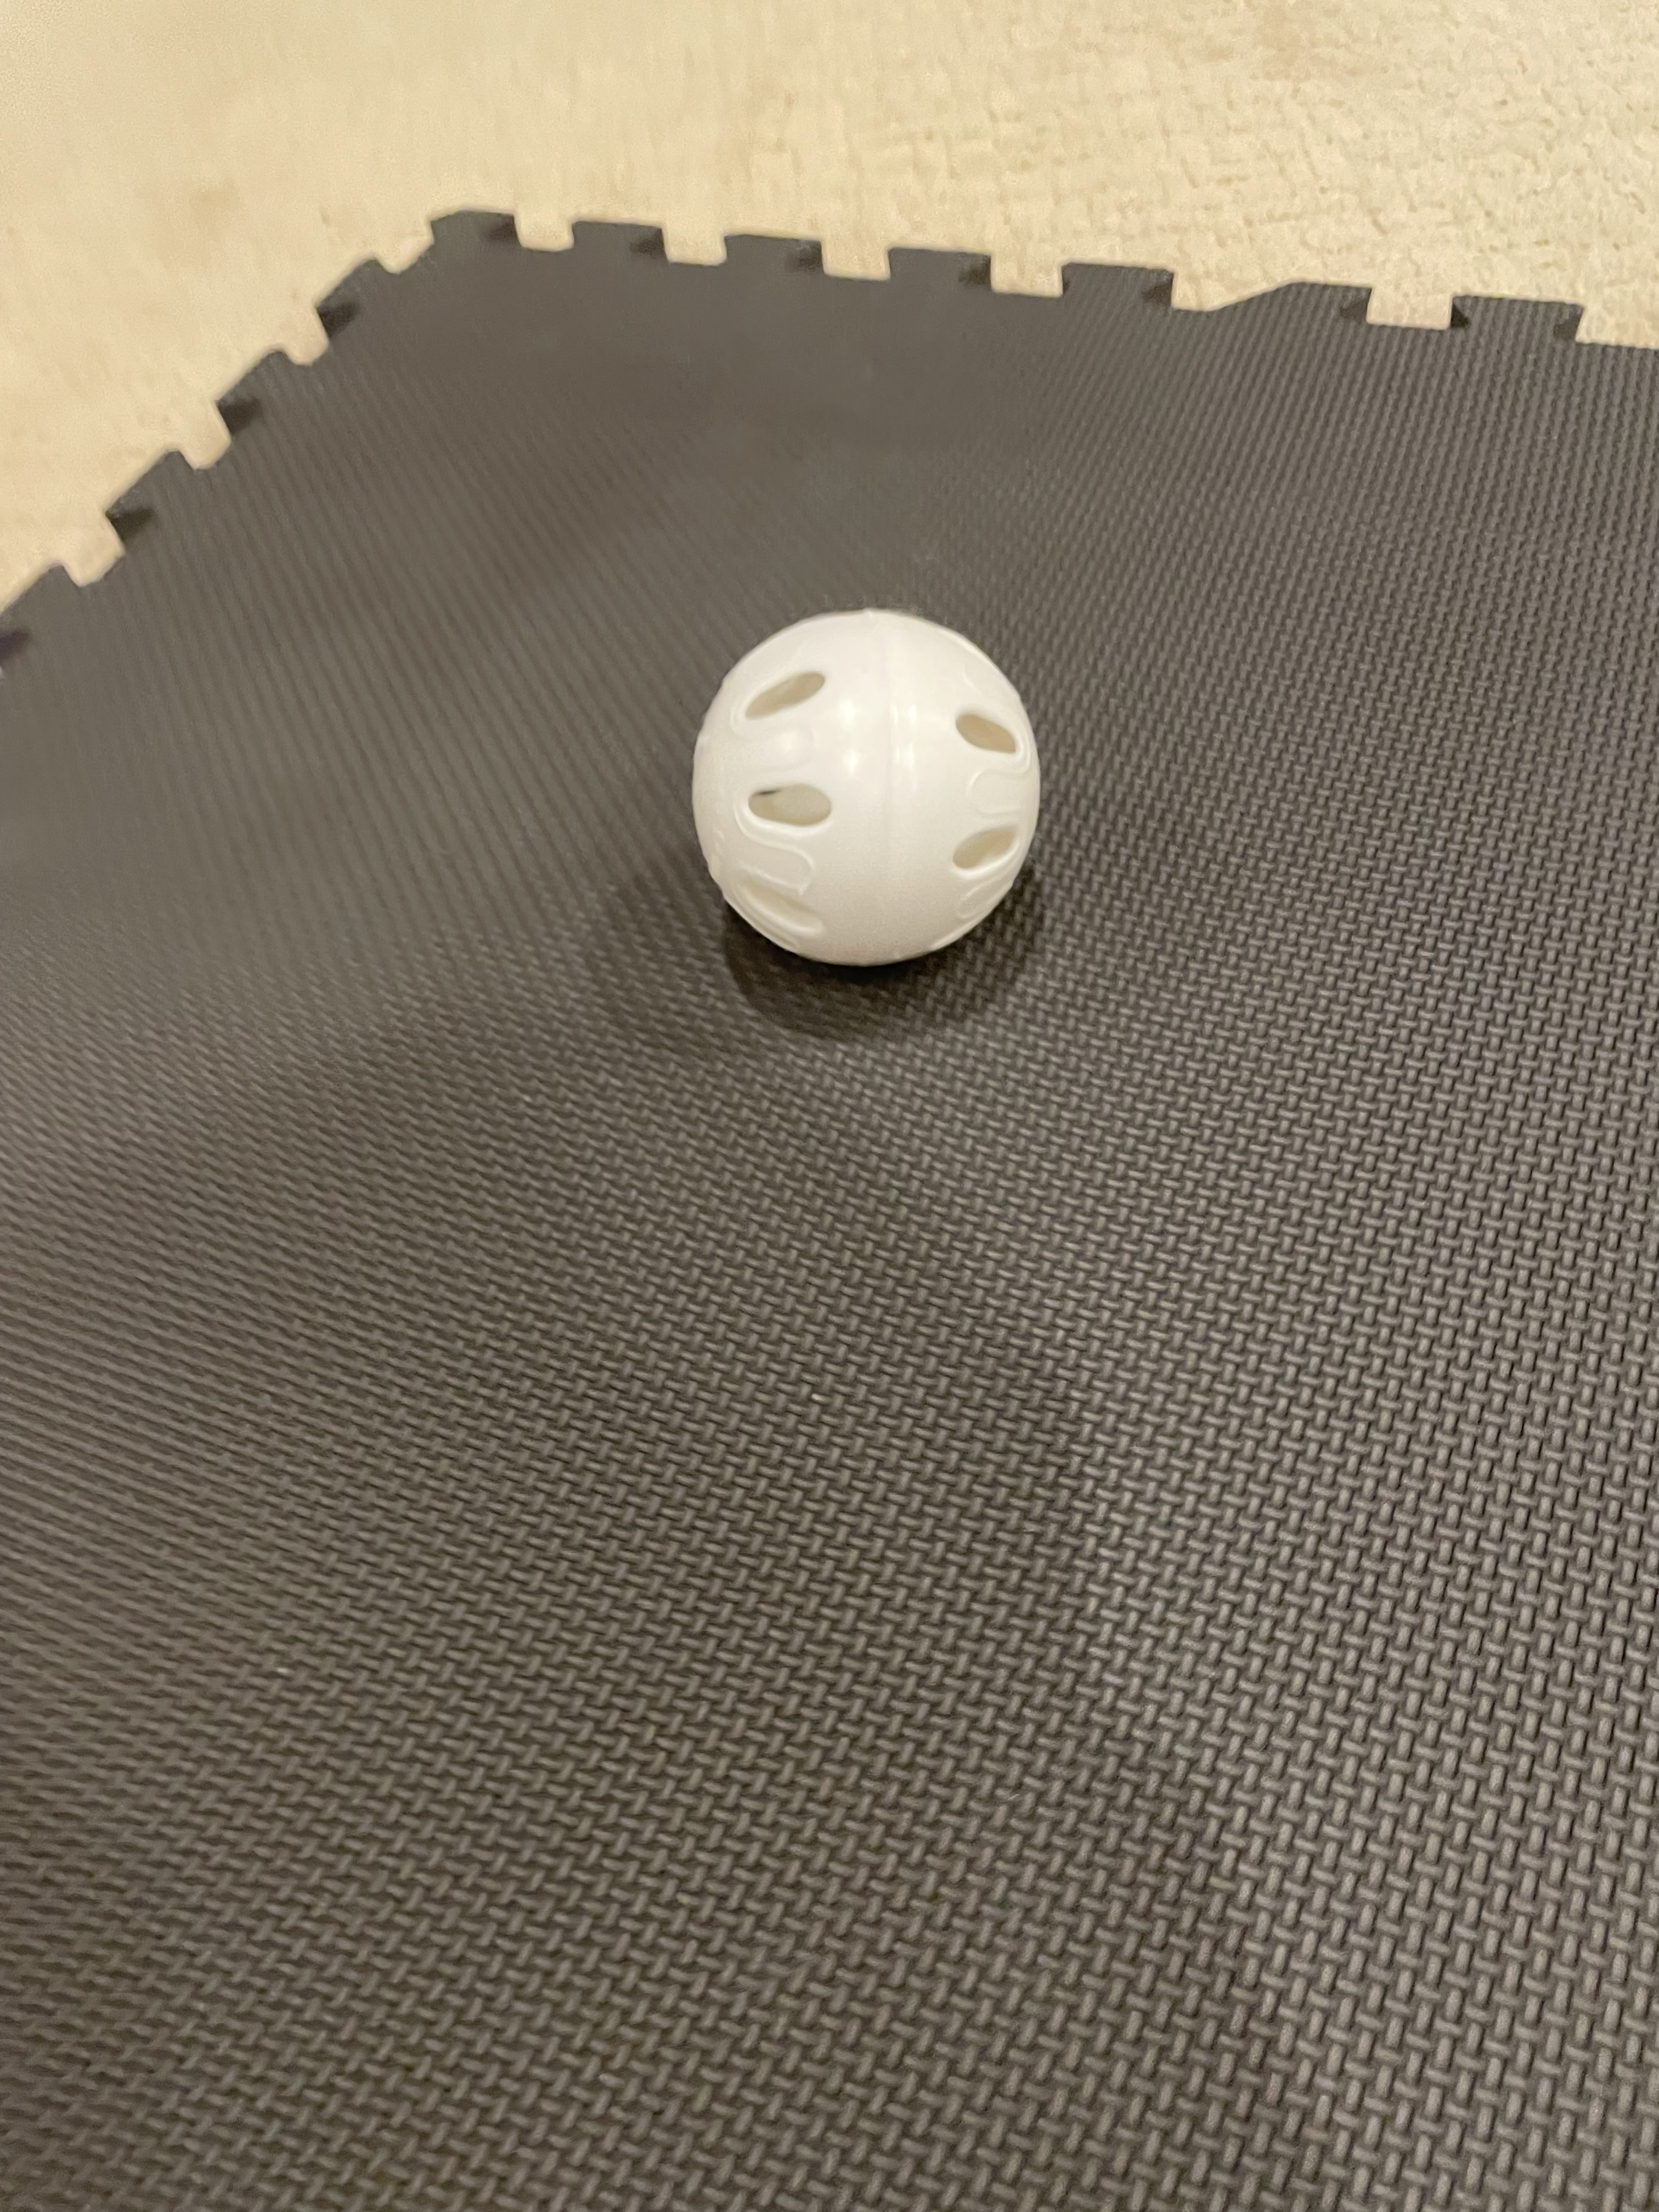ball: (671, 571, 1103, 1003)
